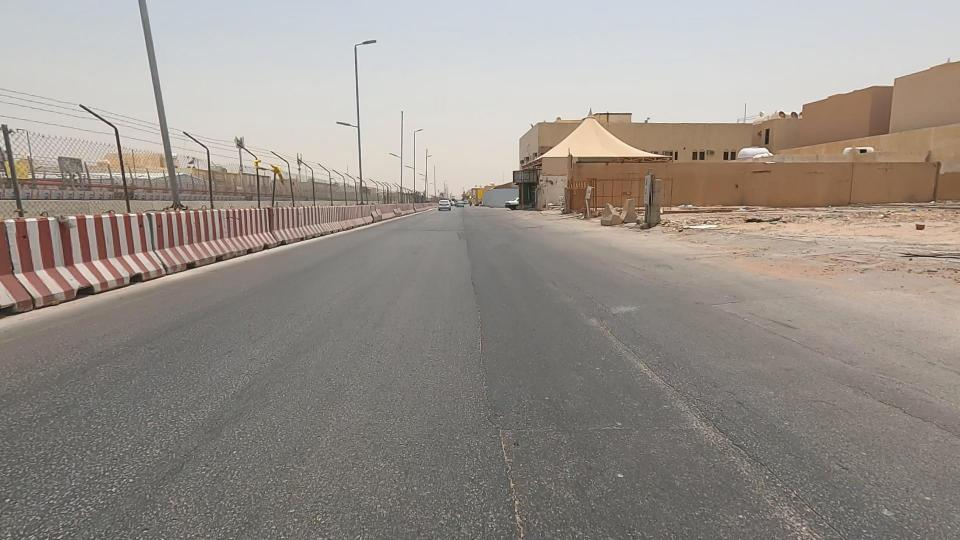CONSTRUCTION_ROAD: (0, 97, 399, 288), (268, 161, 440, 243)
